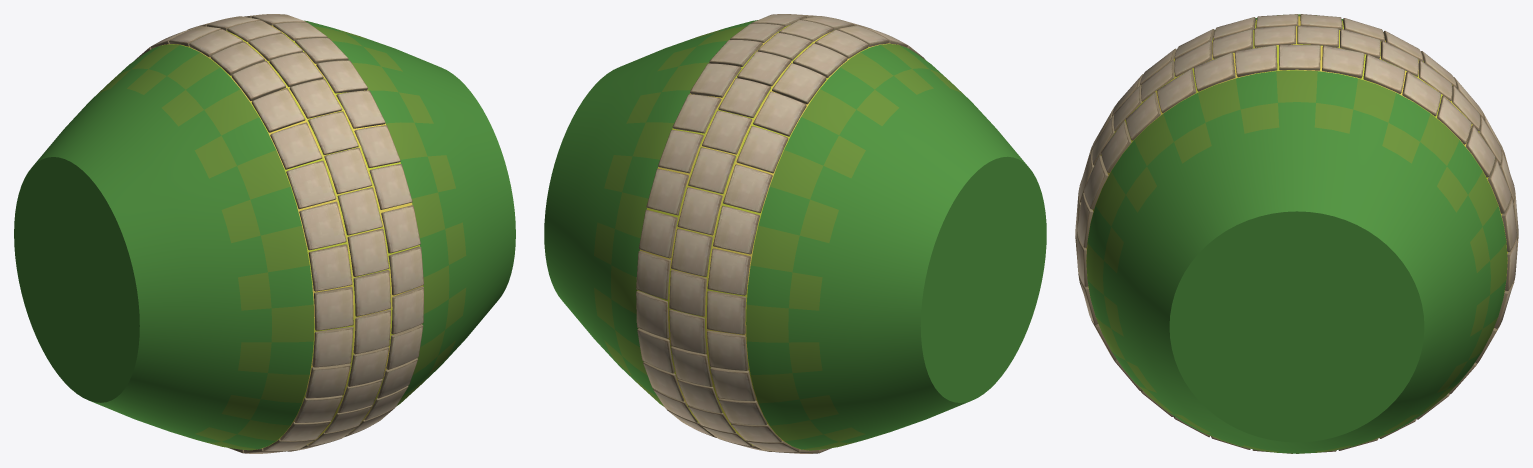
The picture shows the model from 3 angles, left to right: view 1: azimuth 30°, elevation 25°; view 2: azimuth 150°, elevation 25°; view 3: azimuth 270°, elevation 25°; orthographic projection.
Parts seen in each view (by area): view 1: ground, road_3, road_1, road_2; view 2: ground, road_3, road_1, road_2; view 3: ground, road_2, road_1, road_3.
Part boxes in pixels (left/top/right/bottom): ground: left=14, top=20, right=515, bottom=450; road_3: left=134, top=26, right=353, bottom=453; road_1: left=187, top=16, right=390, bottom=451; road_2: left=244, top=14, right=423, bottom=437; ground: left=544, top=20, right=1046, bottom=450; road_3: left=707, top=25, right=925, bottom=453; road_1: left=669, top=16, right=872, bottom=451; road_2: left=636, top=14, right=818, bottom=437; ground: left=1086, top=14, right=1507, bottom=453; road_2: left=1077, top=44, right=1517, bottom=453; road_1: left=1075, top=25, right=1518, bottom=291; road_3: left=1084, top=14, right=1509, bottom=170.
Size of the model in its own units: 1800 by 1814 by 1814.
5 materials, 1 textured.
